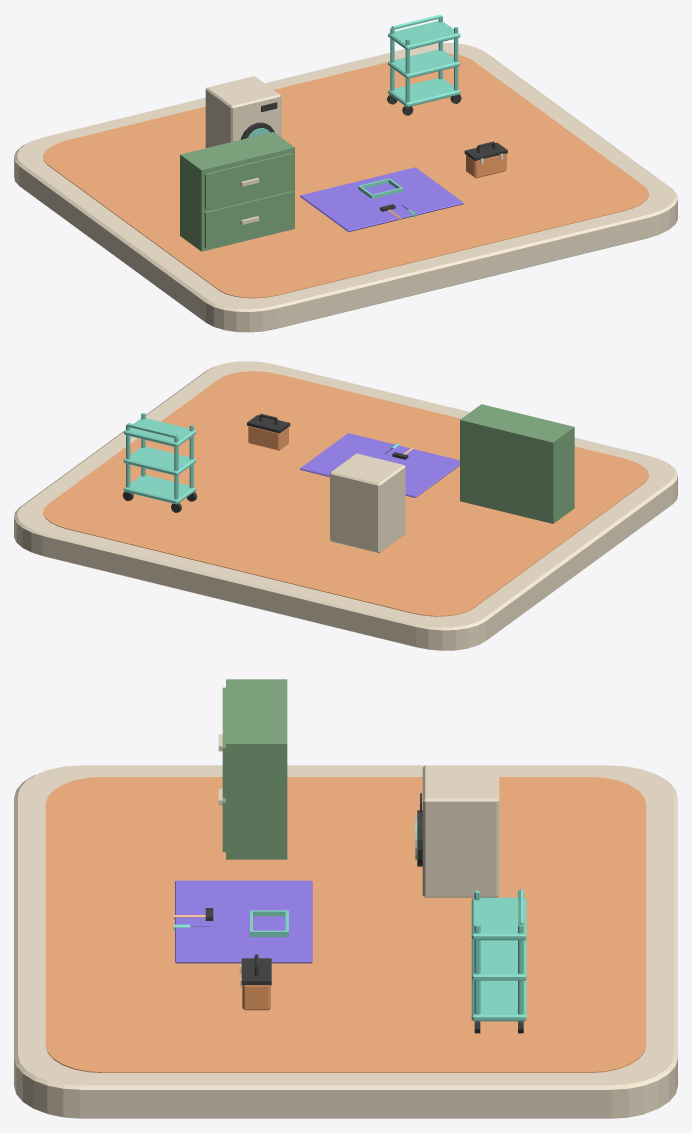
The model's file is room.fbx.
3 views of the same model, one above another, from view 1: azimuth 30°, elevation 25°; view 2: azimuth 150°, elevation 25°; view 3: azimuth 270°, elevation 25° (orthographic). The views are drawn at different scales.
Visible parts, largest first — view 1: COM-02 Floor Surface, COM-01 Rounded Base Direct, Cabinet, Rug, Washing machine, Tray.002, Tray.001, Tray, Box; view 2: COM-02 Floor Surface, COM-01 Rounded Base Direct, Cabinet, Washing machine, Rug, Tray, Tray.001, Tray.002, Box, Lid; view 3: COM-02 Floor Surface, COM-01 Rounded Base Direct, Cabinet, Rug, Washing machine, Tray.002, Tray, Tray.001, Lid, Box.
Part boxes in pixels (x1,y1,x2,y2): COM-02 Floor Surface: [43, 53, 648, 298]; COM-01 Rounded Base Direct: [14, 43, 677, 332]; Cabinet: [180, 132, 294, 251]; Rug: [300, 167, 463, 232]; Washing machine: [205, 76, 281, 147]; Tray.002: [388, 21, 460, 50]; Tray.001: [388, 49, 460, 78]; Tray: [388, 78, 460, 107]; Box: [466, 153, 506, 178]; COM-02 Floor Surface: [43, 371, 648, 616]; COM-01 Rounded Base Direct: [14, 361, 677, 650]; Cabinet: [460, 404, 574, 523]; Washing machine: [330, 453, 405, 553]; Rug: [300, 433, 459, 497]; Tray: [123, 475, 196, 504]; Tray.001: [123, 446, 196, 475]; Tray.002: [123, 418, 196, 447]; Box: [248, 426, 288, 450]; Lid: [247, 415, 290, 433]; COM-02 Floor Surface: [45, 777, 646, 1072]; COM-01 Rounded Base Direct: [14, 765, 677, 1118]; Cabinet: [218, 679, 287, 859]; Rug: [175, 880, 312, 963]; Washing machine: [422, 765, 499, 897]; Tray.002: [471, 897, 526, 940]; Tray: [471, 980, 526, 1021]; Tray.001: [471, 939, 526, 980]; Lid: [241, 958, 271, 985]; Box: [242, 985, 270, 1010].
Bounding box in the file's own units: 600 × 130 × 520.
